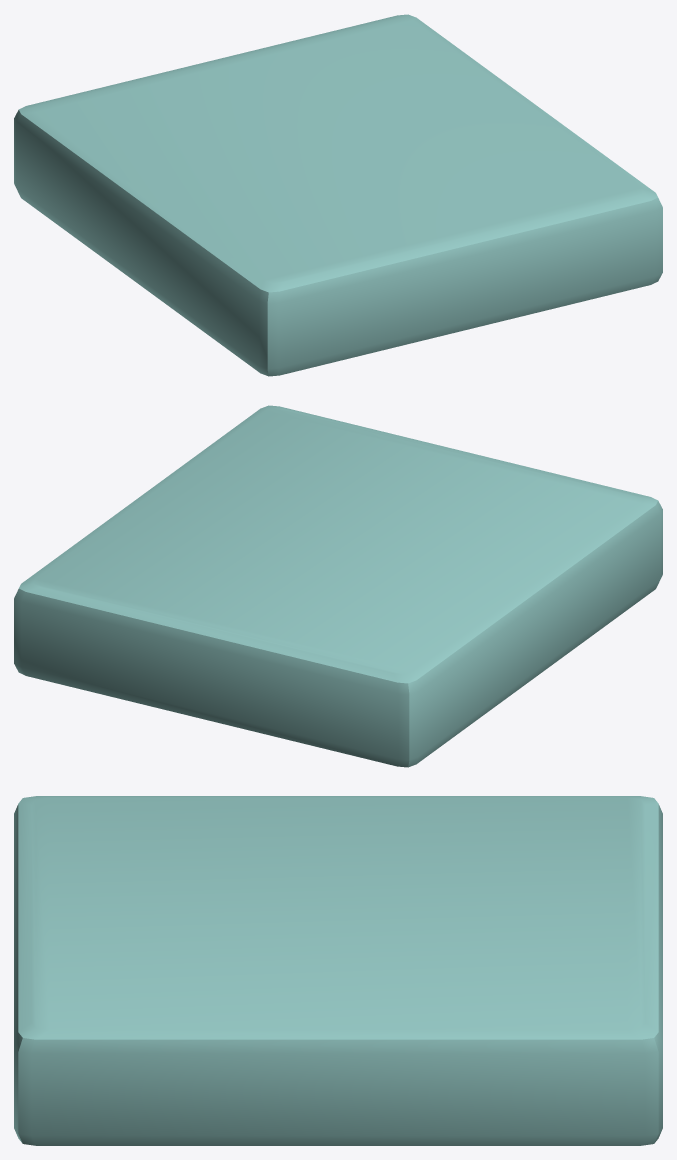
The model's file is Cushion_1.FBX.
3 renders of one model, top to bottom at view 1: azimuth 30°, elevation 25°; view 2: azimuth 150°, elevation 25°; view 3: azimuth 270°, elevation 25°, orthographic. The views are drawn at different scales.
Parts seen in each view (by area): view 1: Cushion_1; view 2: Cushion_1; view 3: Cushion_1.
Boxes of the visible parts, x1,y1,x2,y2 form: Cushion_1: (14,14,662,376); Cushion_1: (14,405,662,767); Cushion_1: (14,796,662,1145).
Bounding box in the file's own units: 1.16 × 0.2504 × 1.29.
